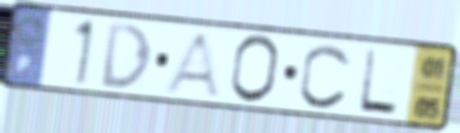1: (69, 18, 97, 88)
A: (160, 30, 225, 101)
C: (296, 41, 355, 112)
D: (99, 20, 154, 91)
L: (355, 46, 401, 119)
O: (227, 32, 283, 106)
